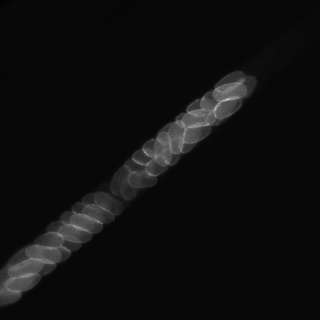embryo: (212, 79, 247, 101), (181, 108, 216, 130), (8, 258, 44, 279), (46, 220, 82, 241), (92, 192, 123, 216), (25, 244, 62, 264), (57, 223, 92, 244), (213, 95, 243, 119), (110, 164, 132, 196), (214, 71, 245, 93), (7, 273, 41, 293), (61, 211, 93, 232), (162, 135, 184, 165), (70, 213, 103, 233), (7, 247, 33, 272), (231, 76, 258, 100), (154, 132, 173, 166), (179, 124, 202, 152), (82, 204, 114, 224), (183, 122, 213, 143), (119, 171, 140, 201), (167, 121, 186, 154), (157, 121, 184, 144), (72, 202, 106, 220), (186, 98, 216, 118), (81, 194, 112, 213), (43, 244, 72, 264), (35, 232, 65, 251), (128, 171, 158, 188), (200, 89, 222, 112), (55, 235, 82, 253), (145, 158, 168, 178), (133, 148, 157, 166), (143, 139, 165, 158), (124, 159, 150, 175), (40, 262, 57, 275)
